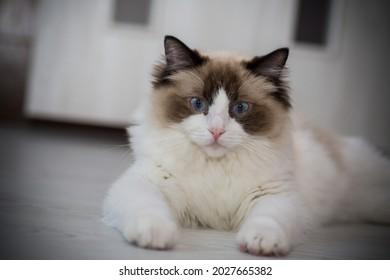ragdoll: (140, 19, 302, 181)
